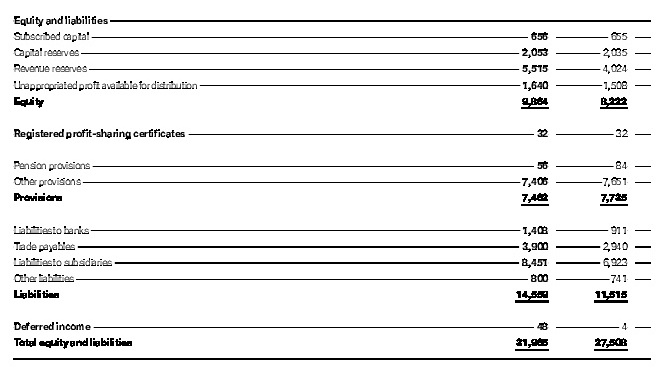table: (0, 0, 664, 374)
